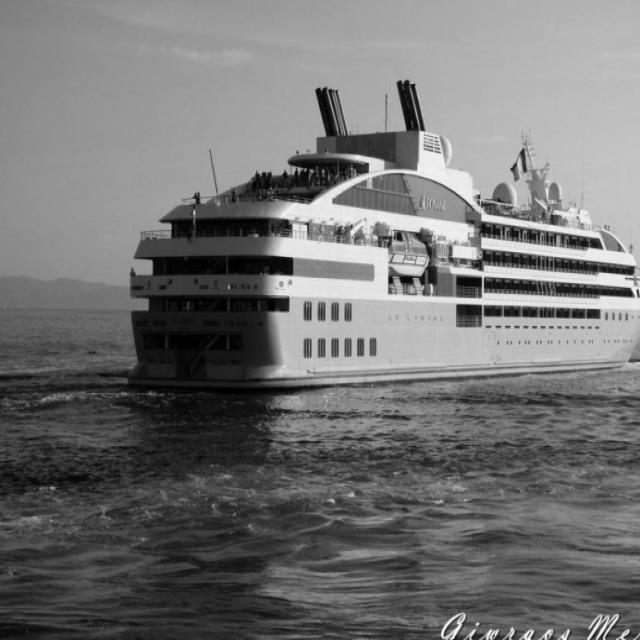cruises: (127, 78, 640, 399)
